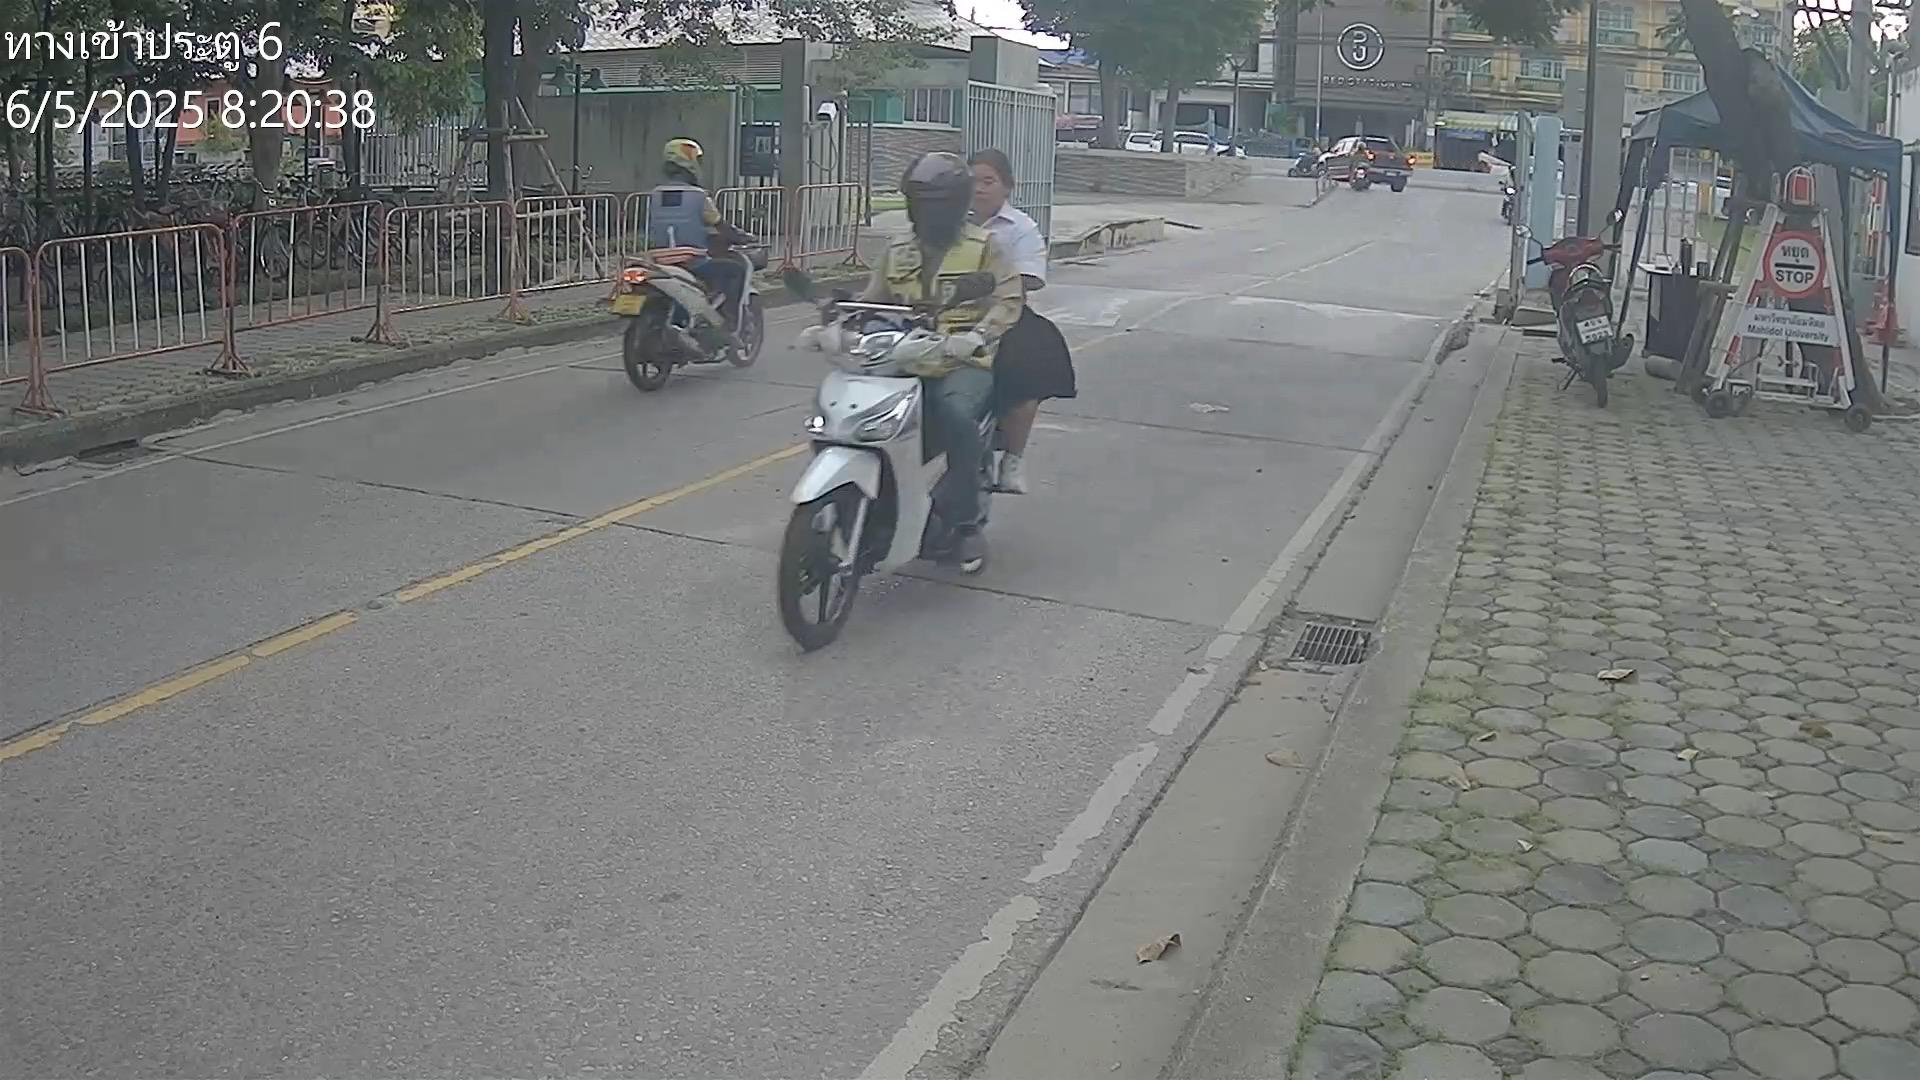With-Helmet: (891, 149, 978, 239), (658, 136, 705, 185)
